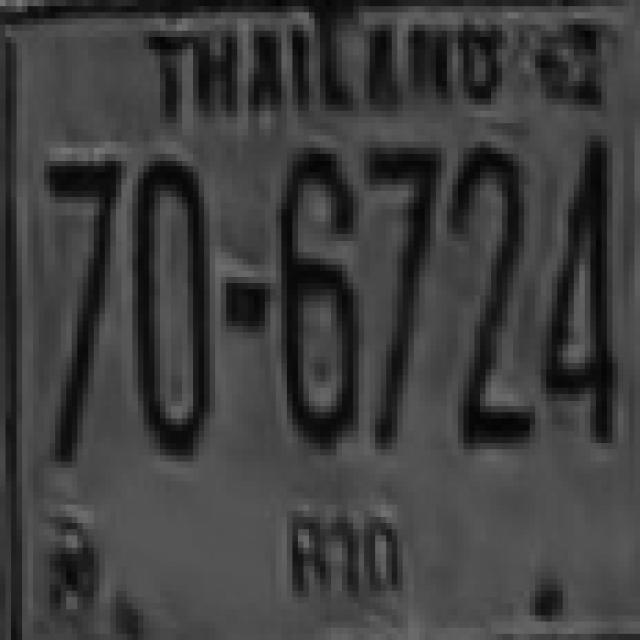7: (364, 142, 436, 320), (364, 142, 436, 302), (47, 154, 119, 314)
Tak: (262, 492, 418, 616)
